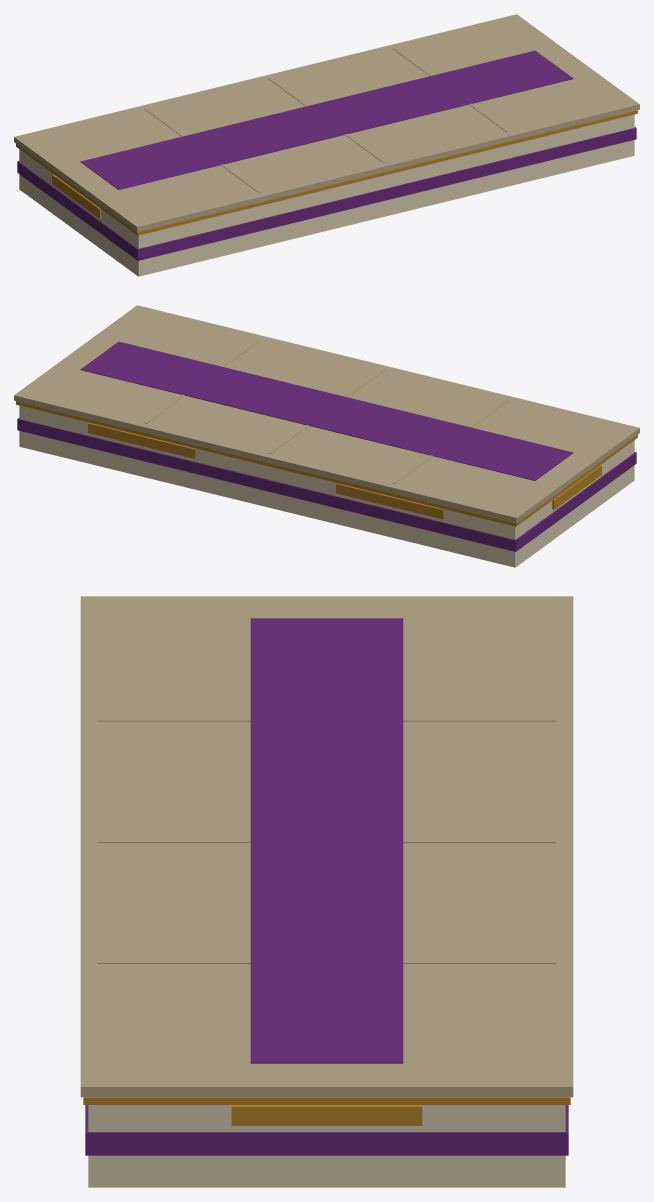
The model's file is SM_ImpTerrace.fbx.
The picture shows the model from 3 angles, top to bottom: view 1: azimuth 30°, elevation 25°; view 2: azimuth 150°, elevation 25°; view 3: azimuth 270°, elevation 25°; orthographic projection. The views are drawn at different scales.
Visible parts, largest first — view 1: SM_ImpTerrace; view 2: SM_ImpTerrace; view 3: SM_ImpTerrace.
Boxes of the visible parts, left/top/right/bottom form: SM_ImpTerrace: left=14, top=14, right=639, bottom=276; SM_ImpTerrace: left=14, top=305, right=639, bottom=567; SM_ImpTerrace: left=80, top=596, right=573, bottom=1187.
Bounding box in the file's own units: 12.16 × 5.16 × 1.22.
